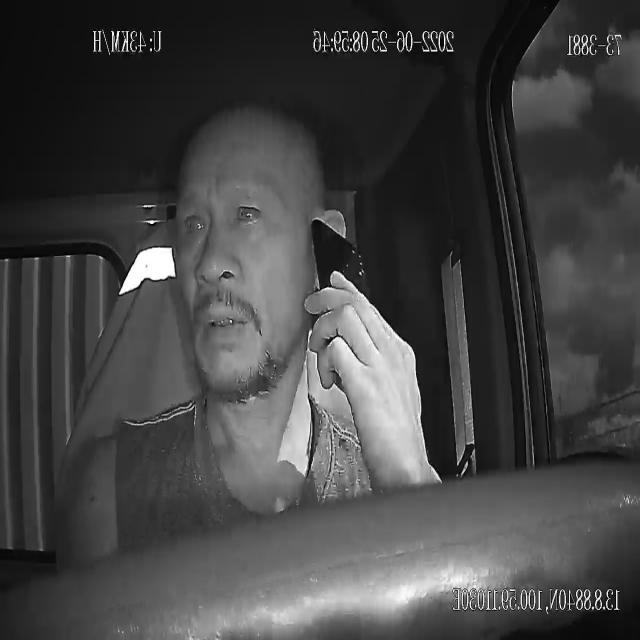phone: (311, 217, 372, 407)
